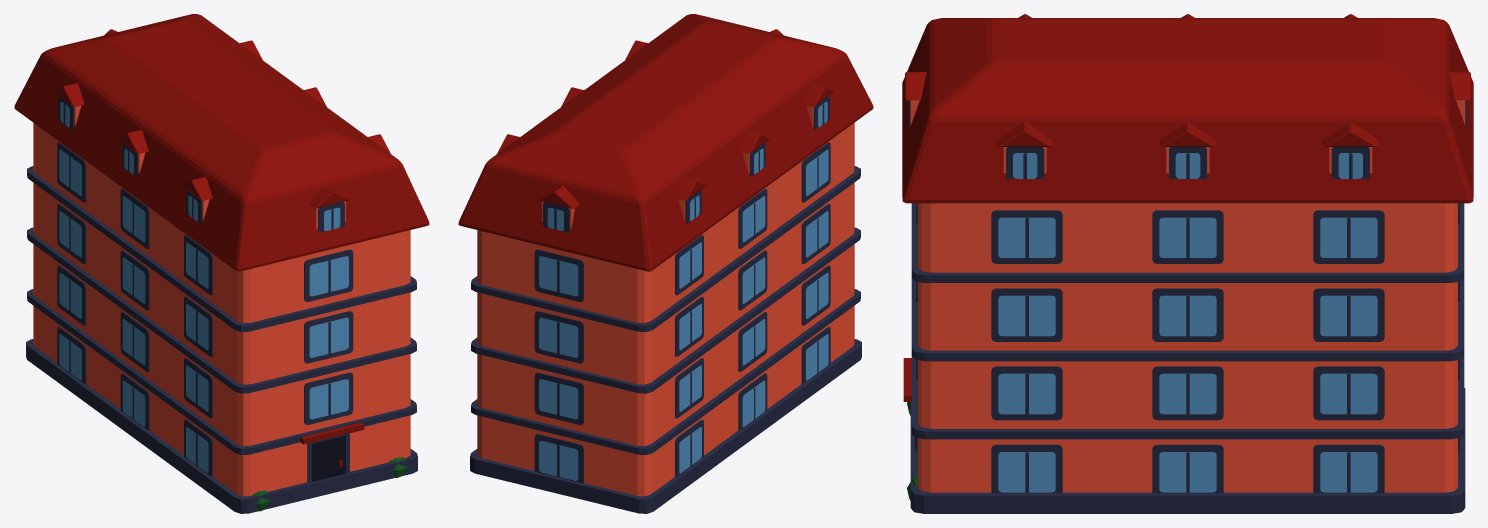
Rendered from house-1x2-4f-mansard-c.glb.
3 renders of one model, left to right at view 1: azimuth 30°, elevation 25°; view 2: azimuth 150°, elevation 25°; view 3: azimuth 270°, elevation 25°, orthographic. The views are drawn at different scales.
Parts seen in each view (by area): view 1: house-1x2-4f-mansard-c; view 2: house-1x2-4f-mansard-c; view 3: house-1x2-4f-mansard-c.
Boxes of the visible parts, bbox=[...] form: house-1x2-4f-mansard-c: bbox=[14, 14, 429, 513]; house-1x2-4f-mansard-c: bbox=[458, 14, 873, 513]; house-1x2-4f-mansard-c: bbox=[902, 14, 1473, 513].
Bounding box in the file's own units: 0.9876 × 1.6 × 1.99.
1 material, 1 textured.
